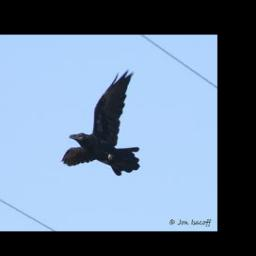Crow: (60, 68, 140, 175)
